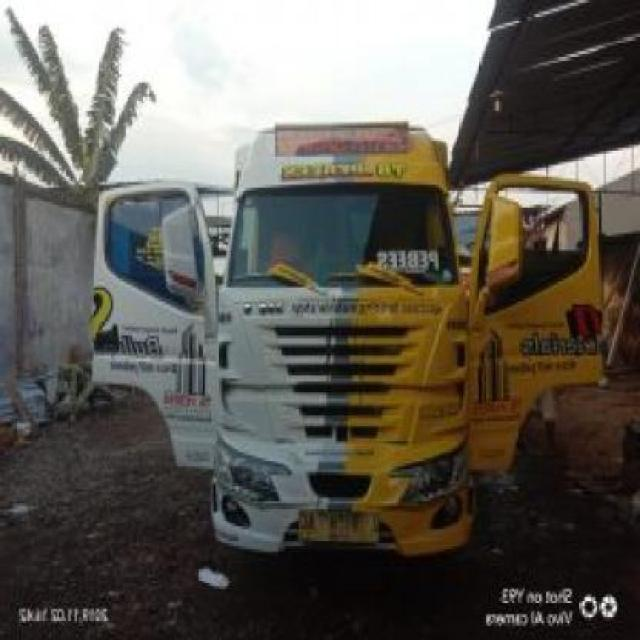truck: (95, 115, 607, 570)
